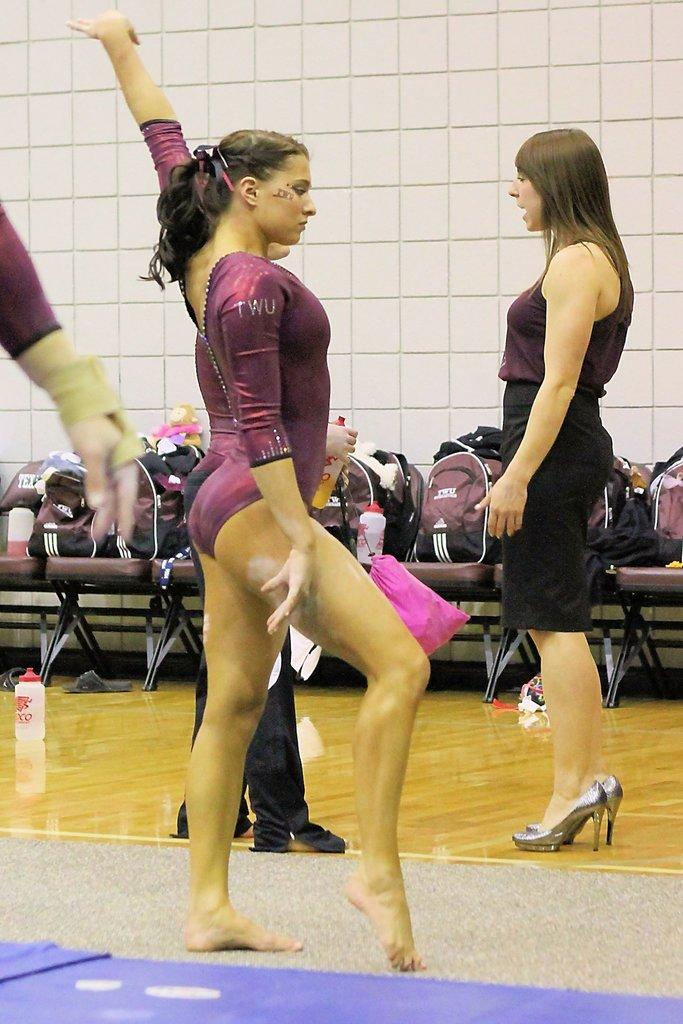Luggage-and-bags: (420, 451, 498, 569), (122, 451, 192, 552), (28, 472, 101, 561), (314, 452, 379, 550), (575, 447, 629, 564), (641, 461, 682, 568), (0, 456, 49, 512)
